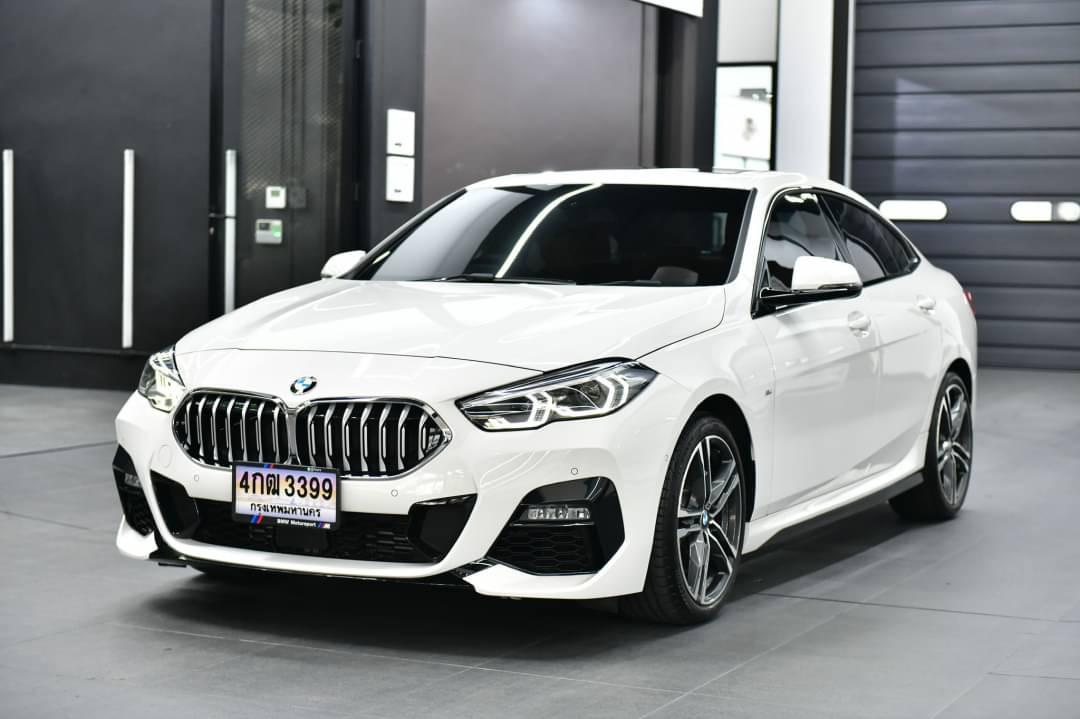license-plate: (228, 458, 340, 534)
